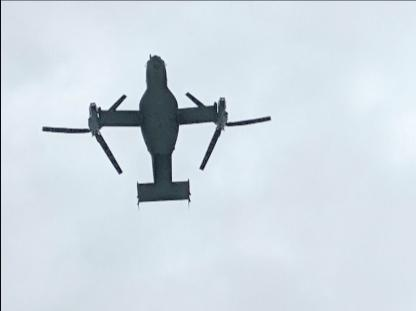Tornado: (42, 53, 272, 210)
